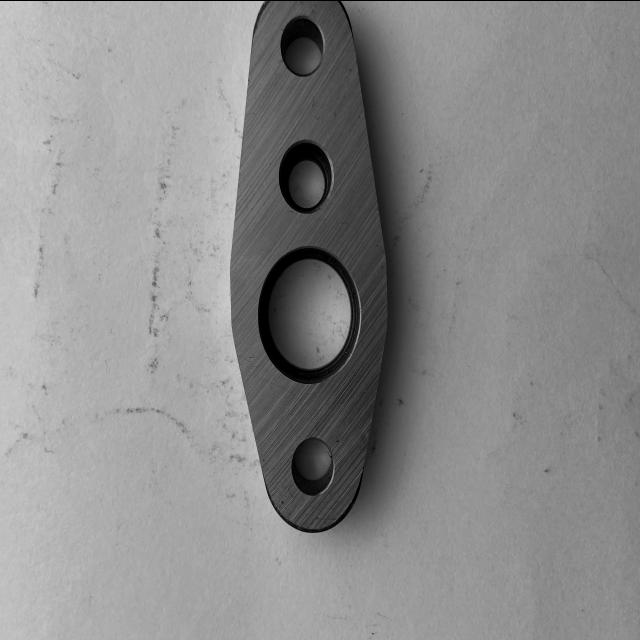chap: (279, 496, 285, 506)
lines: (304, 502, 336, 522), (255, 376, 288, 395), (309, 94, 317, 110)
